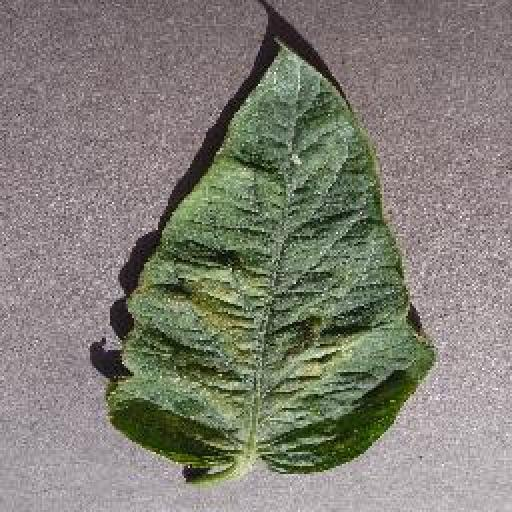disease_tomato: (101, 37, 435, 472)
